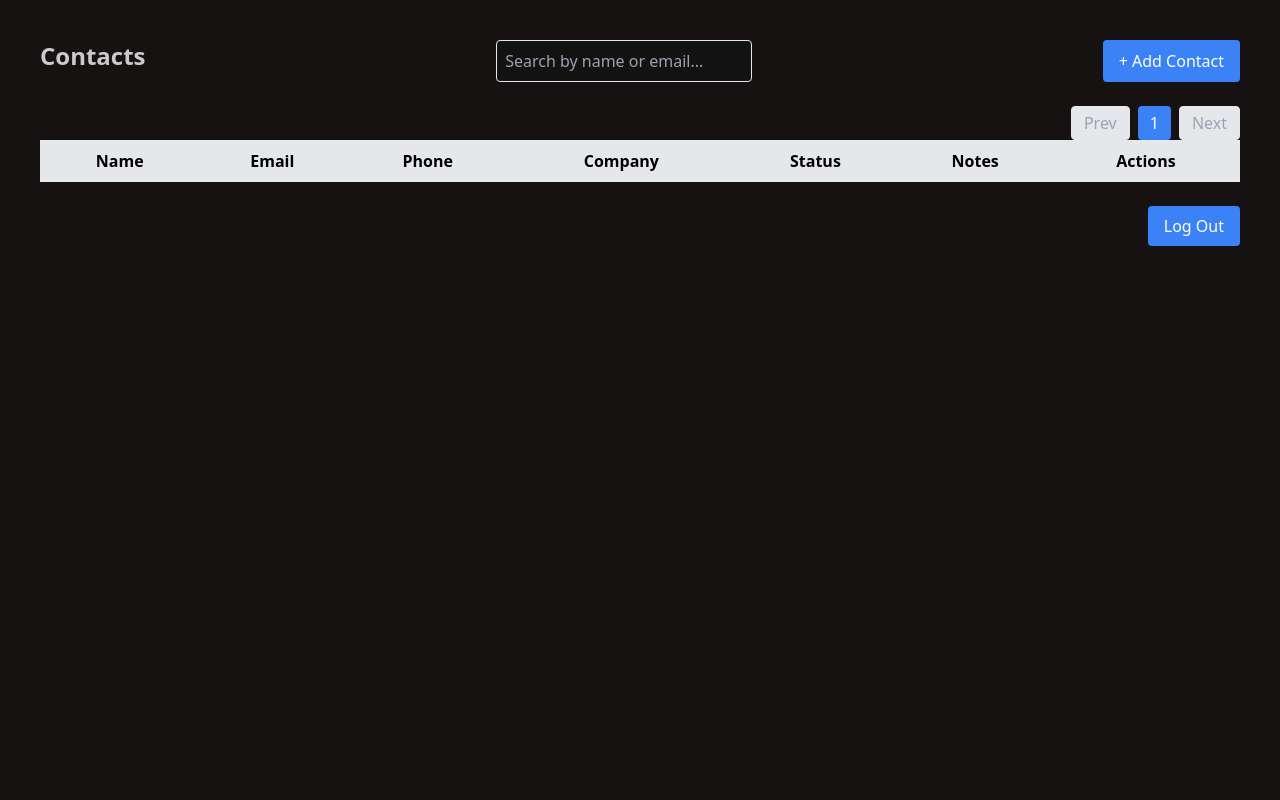
Test: HomePage Component › shows email validation error
Click the button "+ Add Contact".
click(1171, 61)  # box [1103,40,1240,82]
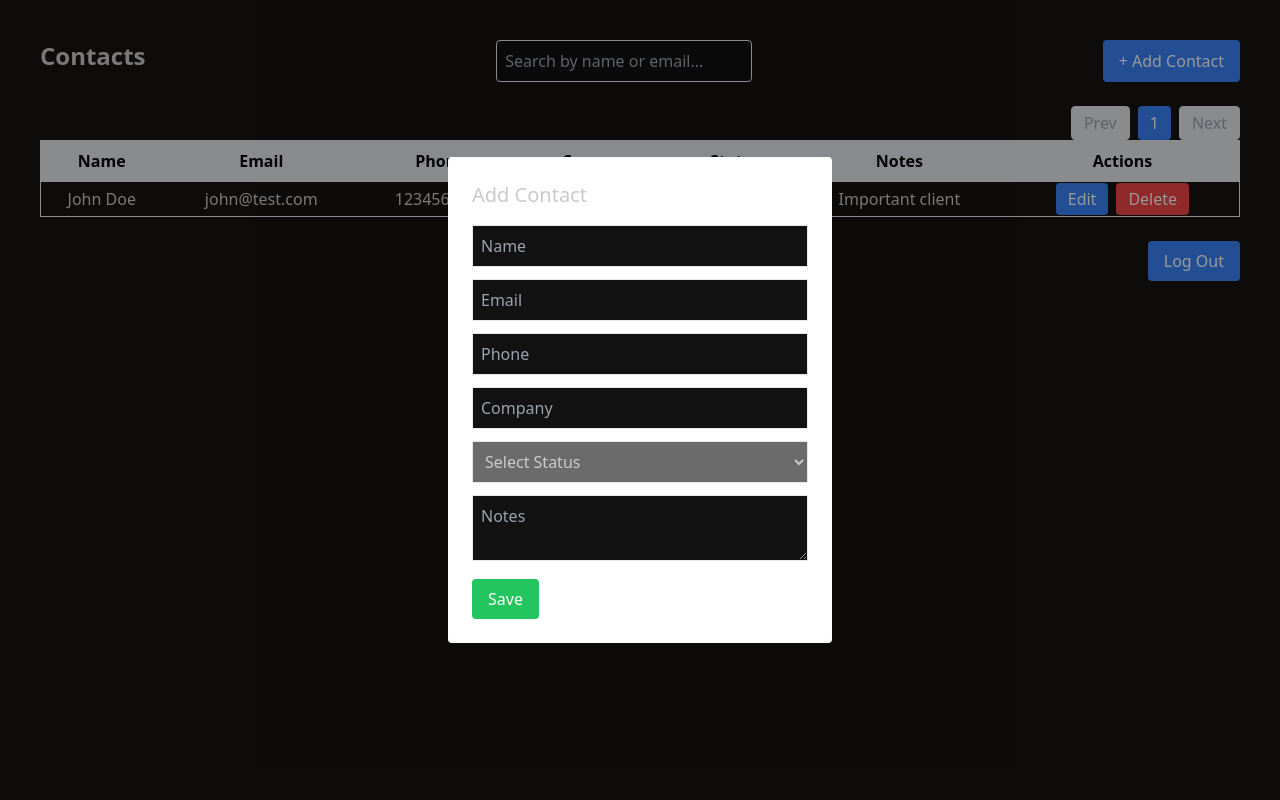
Type "John" into the field with placeholder "Name".
click(640, 246); type("John")  # box [472,225,808,267]
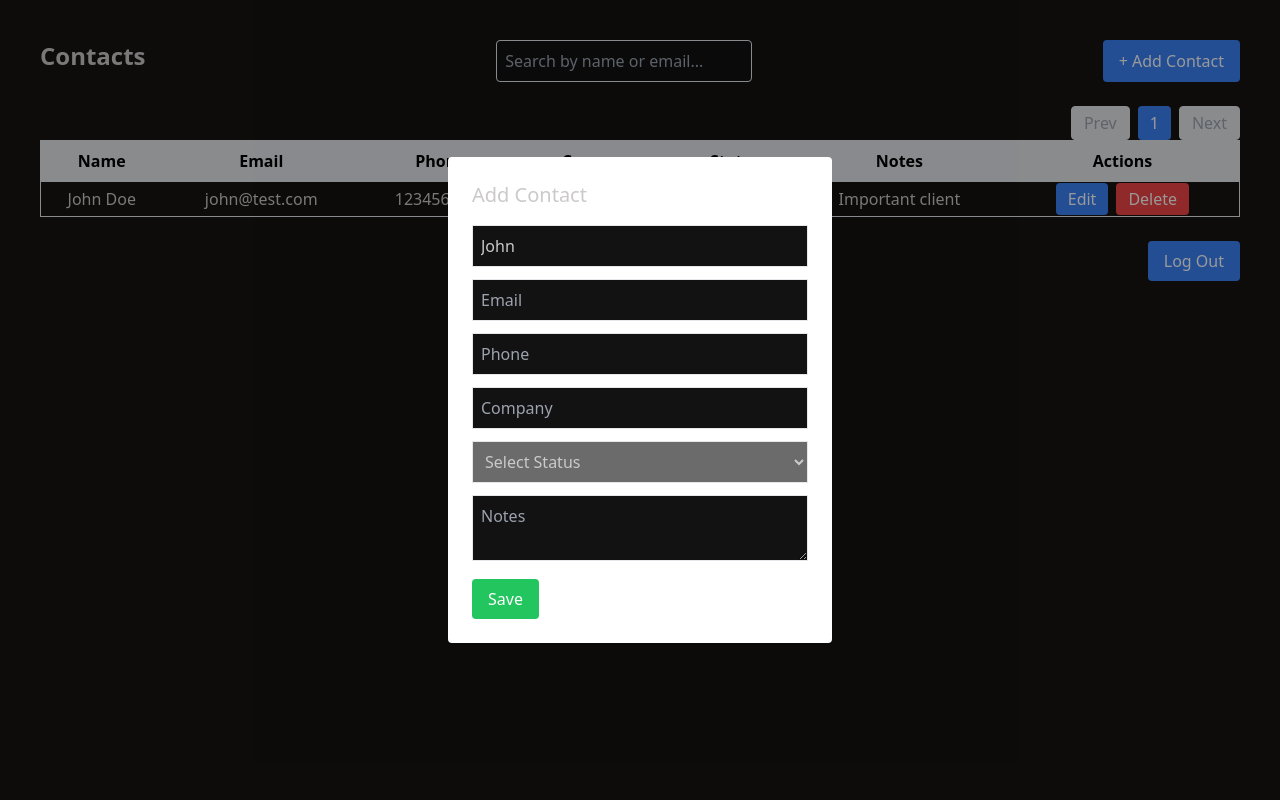
Click the button "Save".
click(505, 599)  # box [472,579,539,619]
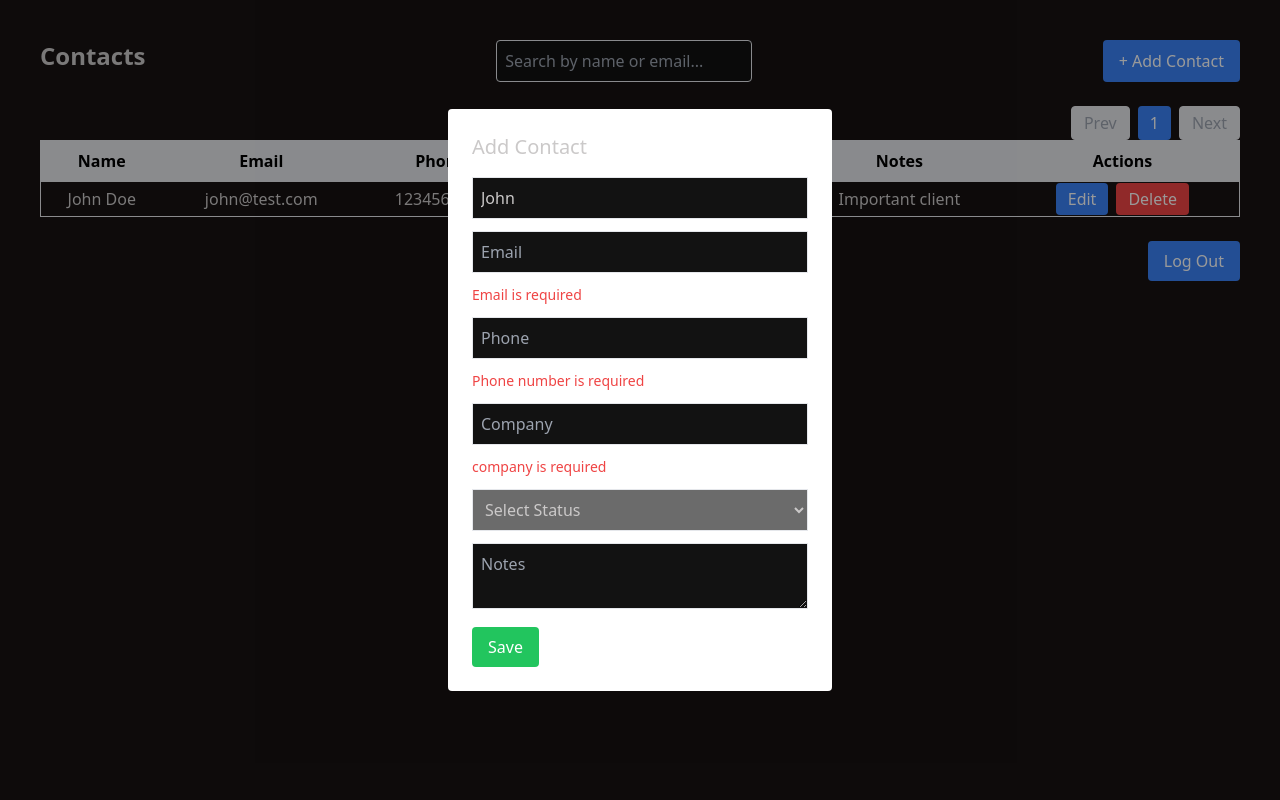
Result: the text "Email is required" is shown at [472,285,582,304]
